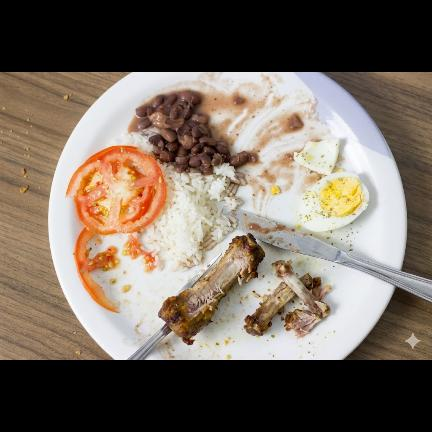beans: (135, 91, 248, 175)
chicken: (159, 234, 265, 344), (244, 261, 331, 337)
egg: (294, 139, 369, 231)
rice: (143, 160, 243, 270), (116, 132, 151, 152)
tomato: (66, 145, 166, 312)
